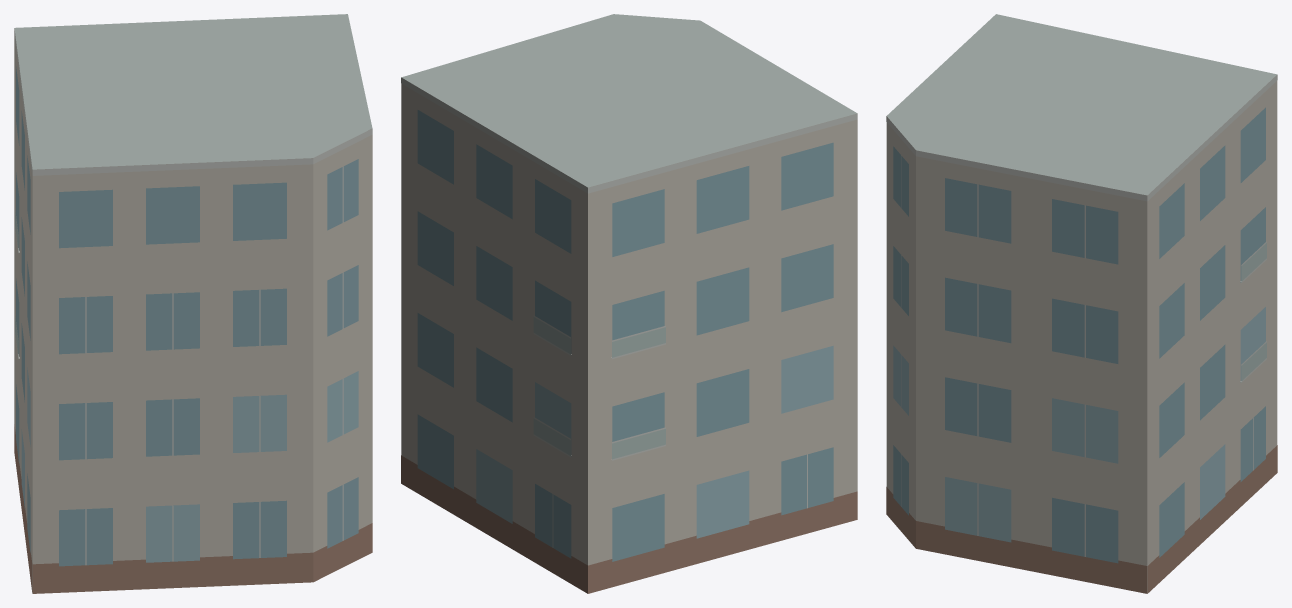
File: survey-upis-32476133.glb
3 renders of one model, left to right at view 1: azimuth 30°, elevation 25°; view 2: azimuth 150°, elevation 25°; view 3: azimuth 270°, elevation 25°, orthographic. The views are drawn at different scales.
Visible parts, largest first — view 1: survey-upis-32476133.tmp; view 2: survey-upis-32476133.tmp; view 3: survey-upis-32476133.tmp.
Boxes of the visible parts, x1,y1,x2,y2 form: survey-upis-32476133.tmp: [14, 14, 372, 593]; survey-upis-32476133.tmp: [401, 14, 857, 593]; survey-upis-32476133.tmp: [886, 14, 1277, 593].
Bounding box in the file's own units: 16.03 × 16.4 × 14.59.
